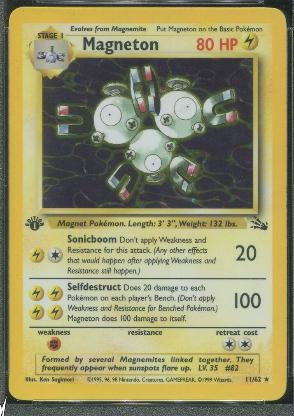Card: (6, 5, 288, 405)
